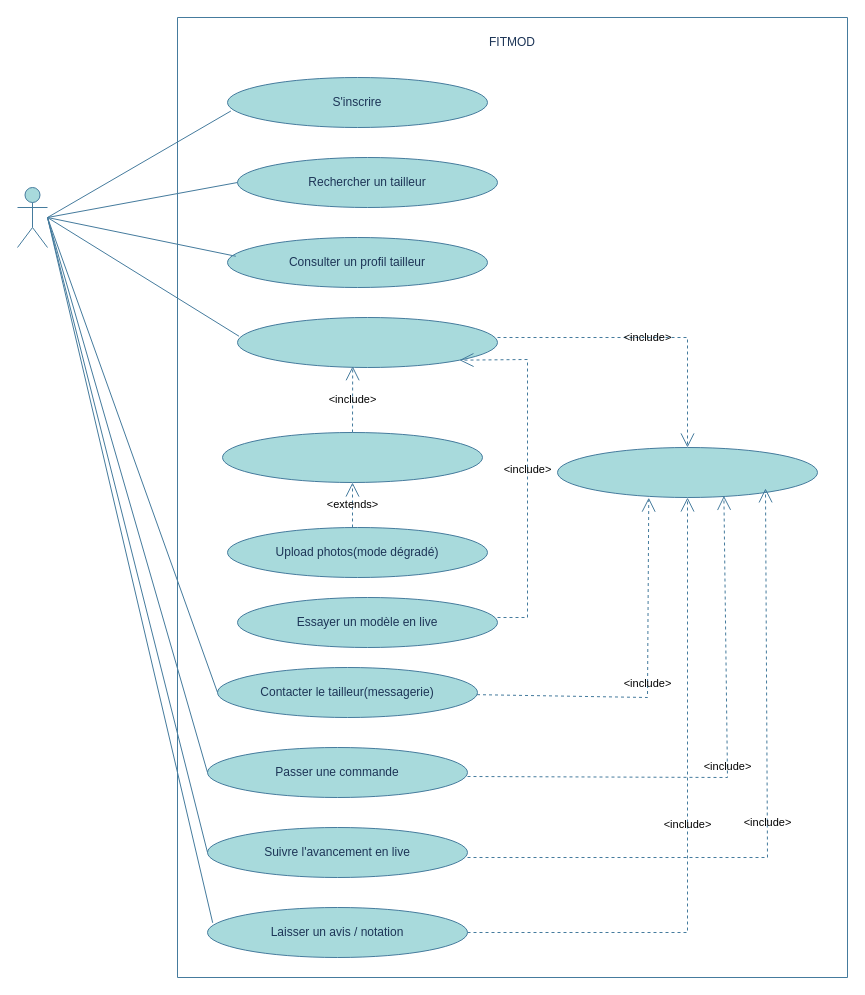
This 865x995 diagram has some shape labels left out. Here are the shapes that lost their labels. From the top down, the centre of each, then its label:
At (32,217): "Client".
At (367,342): "Activer la cabine d'essayage".
At (352,457): "Prise de mesures via webcam".
At (687,472): "S'authentifier".
